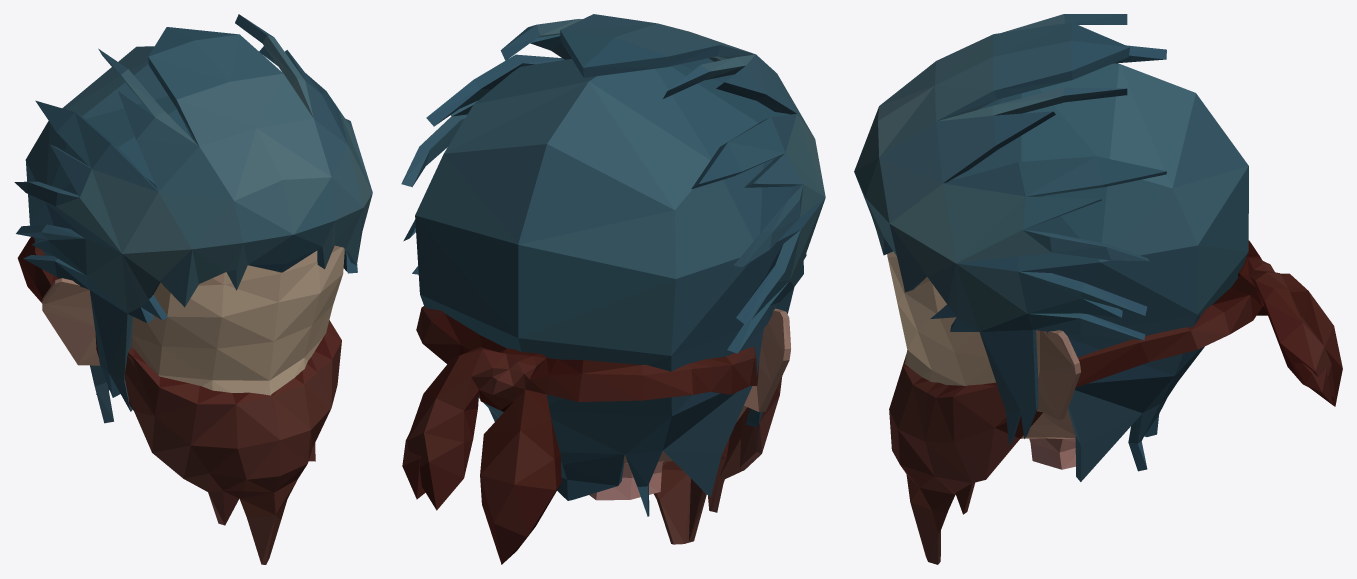
The model's file is helm_lightskin_spike_blue_bandana.fbx.
3 views of the same model, side by side, from view 1: azimuth 30°, elevation 25°; view 2: azimuth 150°, elevation 25°; view 3: azimuth 270°, elevation 25° (orthographic). The views are drawn at different scales.
Parts seen in each view (by area): view 1: helm_lightskin_spike_blue_bandana; view 2: helm_lightskin_spike_blue_bandana; view 3: helm_lightskin_spike_blue_bandana.
Boxes of the visible parts, box(x1,y1,x2,y2) form: helm_lightskin_spike_blue_bandana: box(14, 14, 372, 564); helm_lightskin_spike_blue_bandana: box(401, 14, 825, 564); helm_lightskin_spike_blue_bandana: box(854, 14, 1342, 564).
Size of the model in its own units: 1.13 by 1.71 by 1.46.
